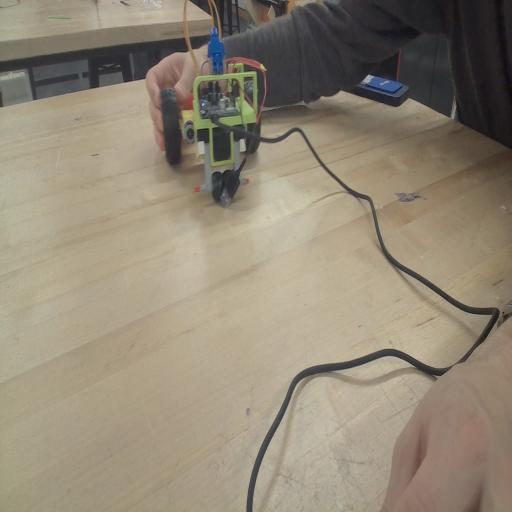blue LEGO minifig: (206, 24, 225, 72)
